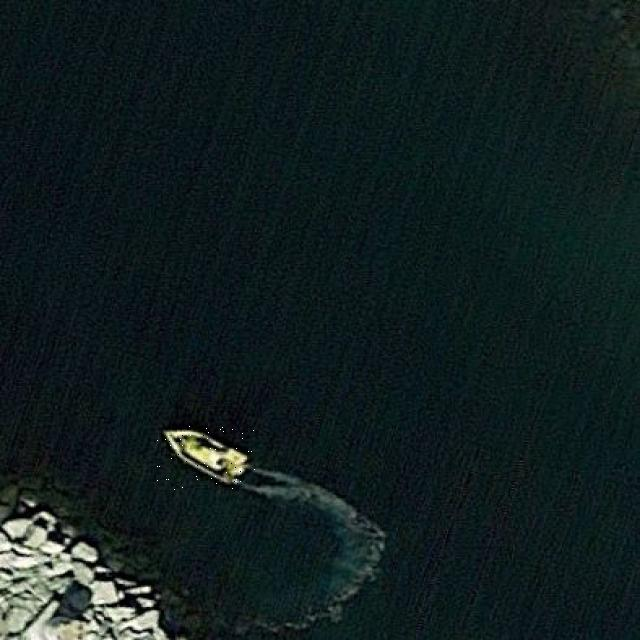boat: (156, 426, 255, 490)
